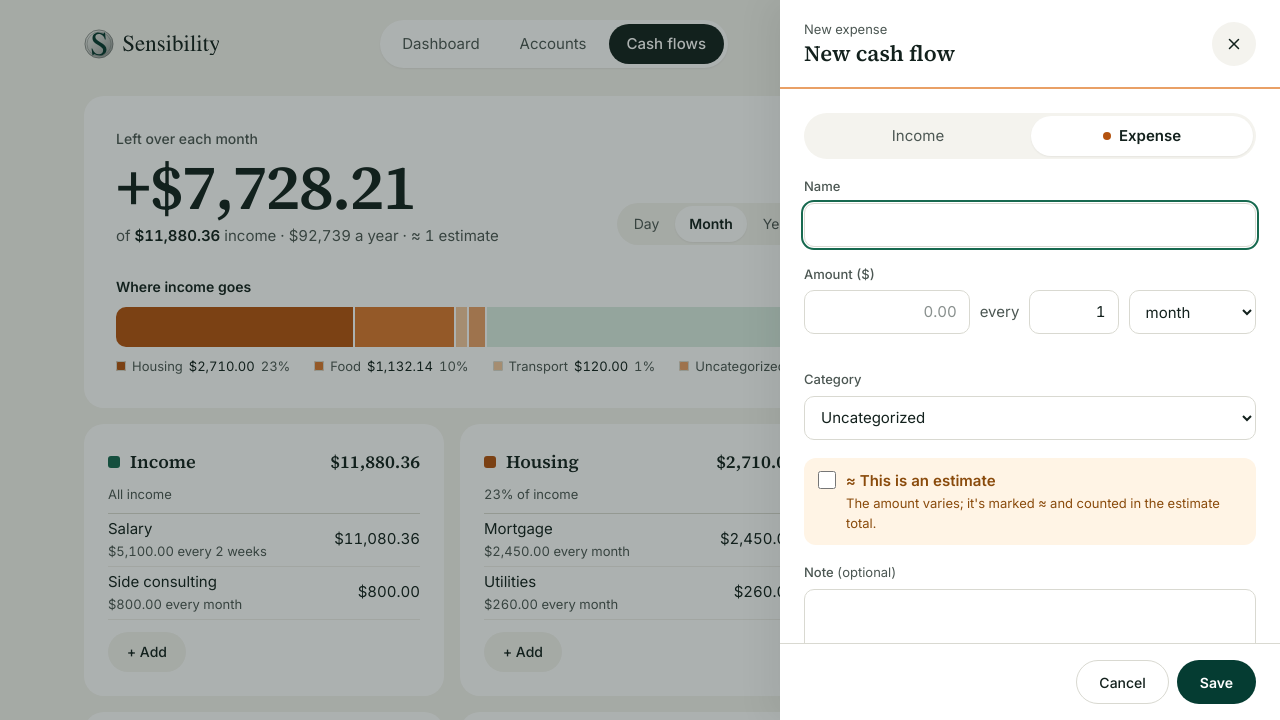
Test case: the cash flow drawer, new › refuses 5 every 1.5 before sending: Every must be a whole number, e.g. 2 for every 2 weeks
This screenshot has width=1280, height=720.
Check: the dialog is shown, box [780,0,1279,719]
Type "Gym" into the field labelled "Name". click: (1030, 224)
box: [804,202,1256,246]
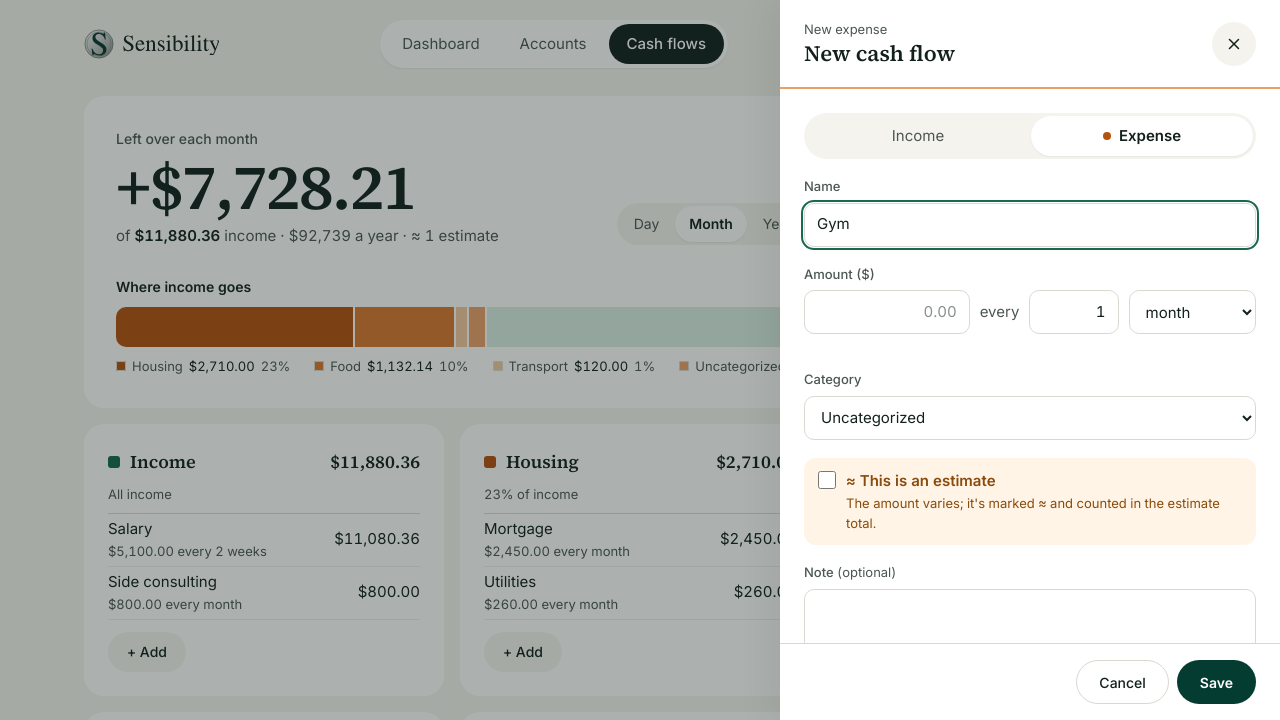
Type "5" into the field labelled "Amount ($)". click: (887, 312)
box: [804,290,970,334]
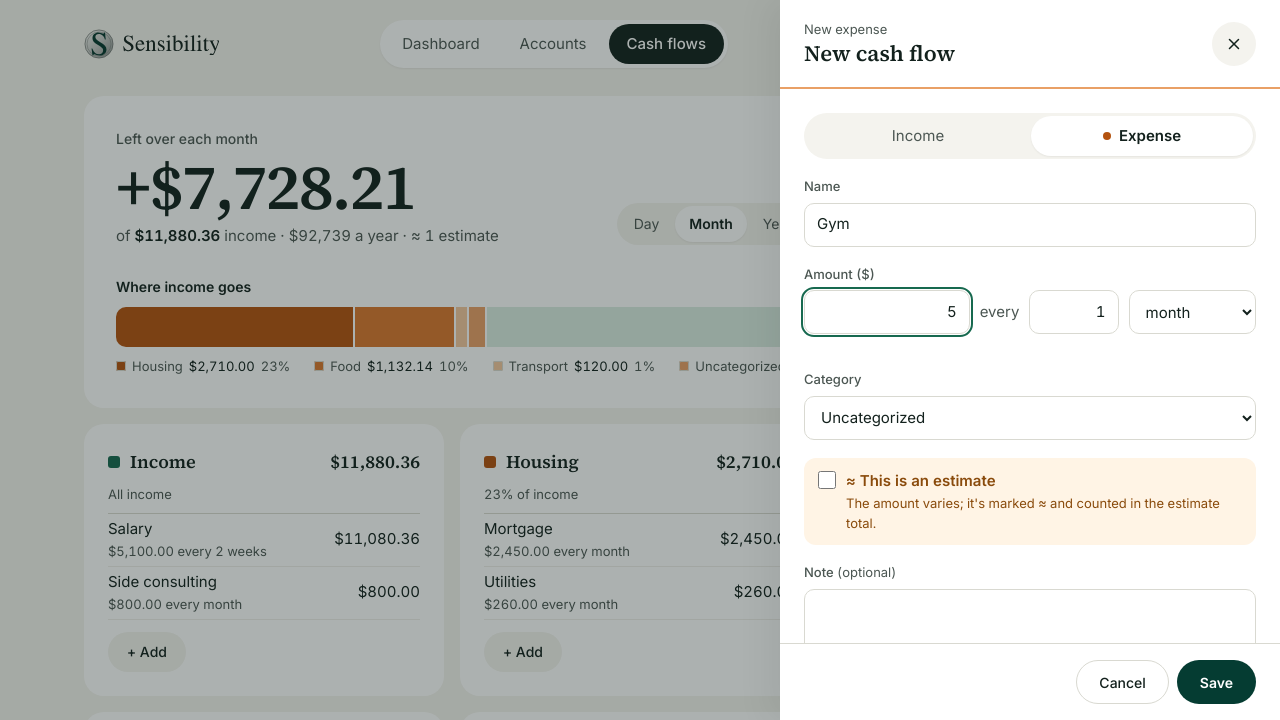
Replace the text in the 3rd field with "1.5". click: (1074, 312)
box: [1029,290,1118,334]
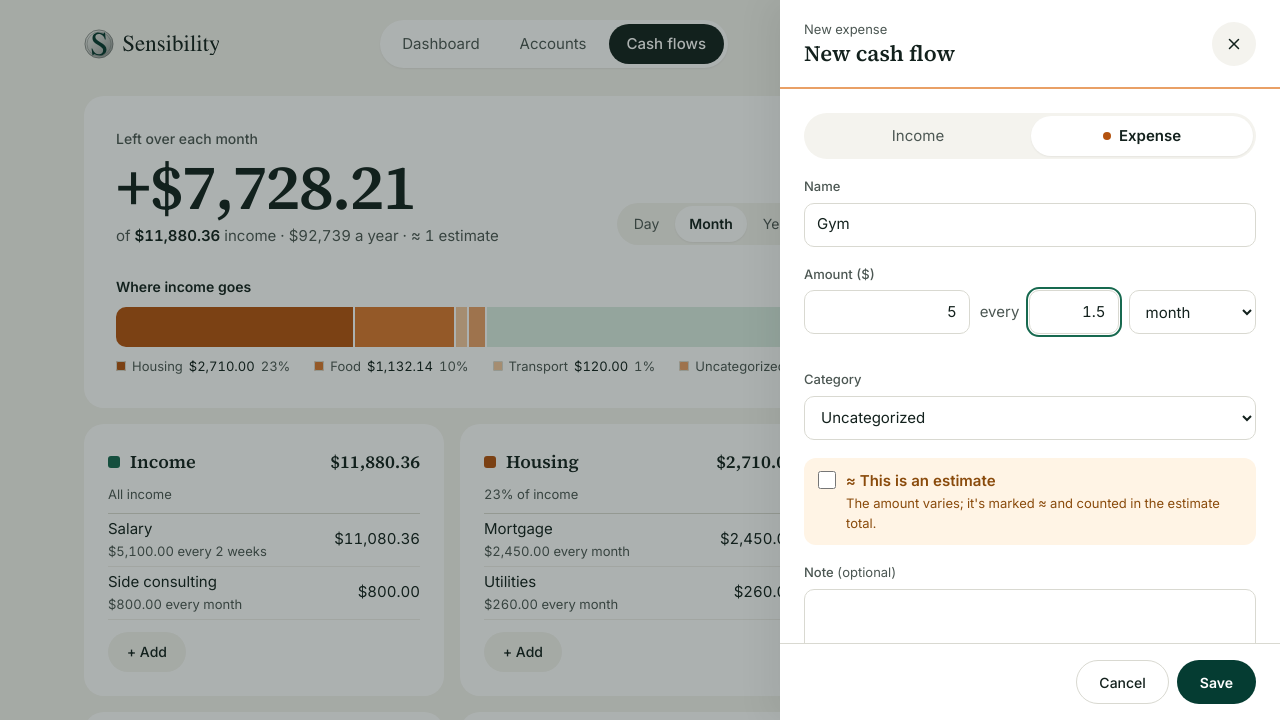
Click the button "Save". click: (1216, 682)
box: [1177,660,1256,704]
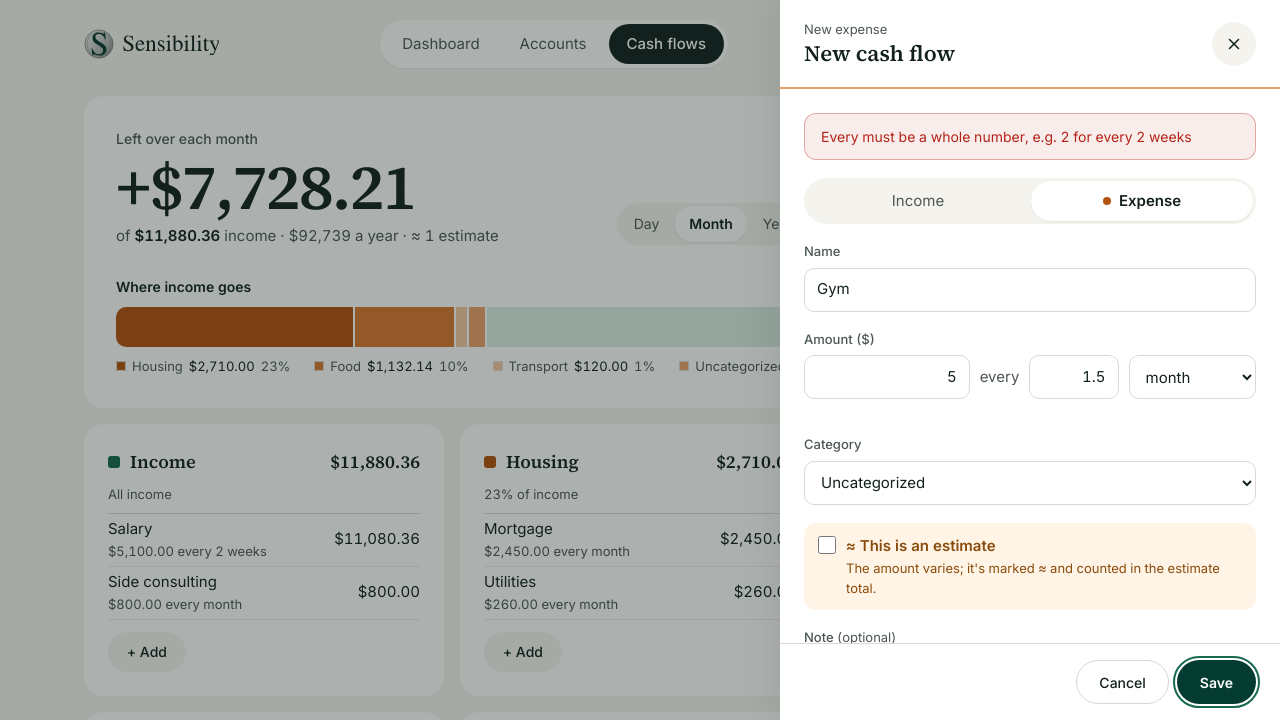
Check: the message reads "Every must be a whole number, e.g. 2 for every 2 weeks", box [821,128,1192,145]
